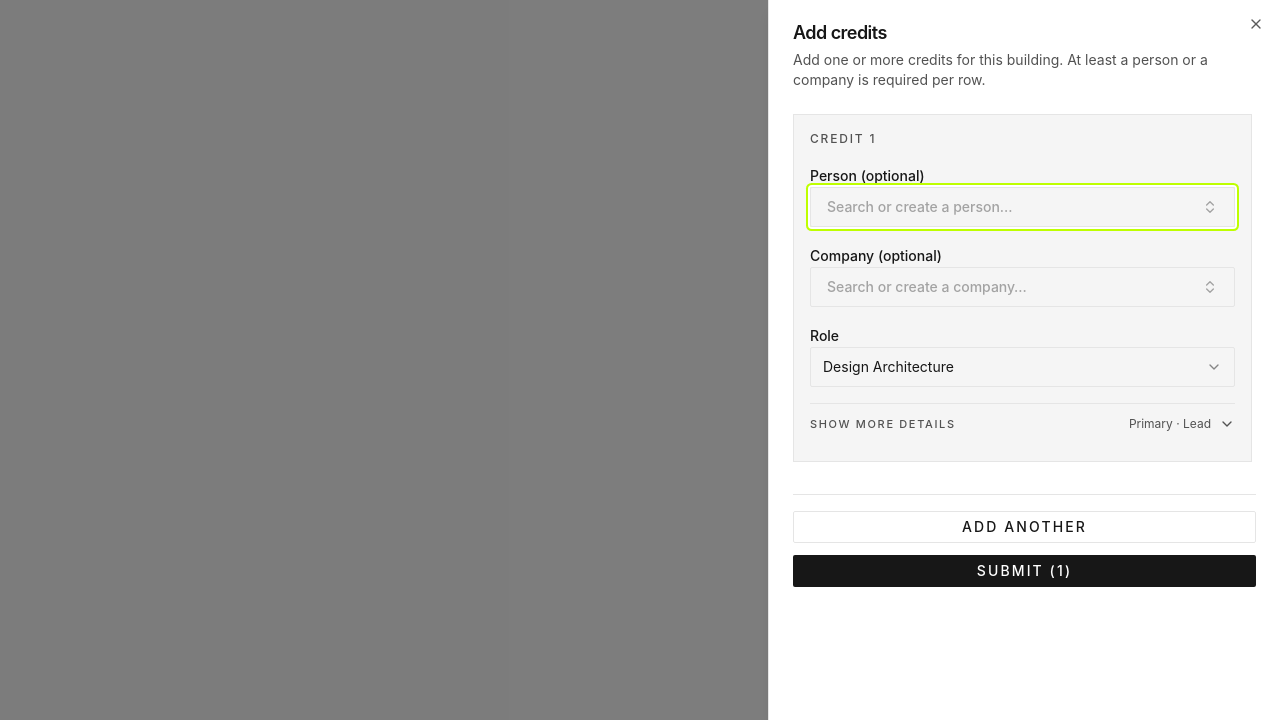
Test: AddCreditForm › shows validation when neither person nor company is selected
Click the button "Submit (1)" at (1024, 570), box top-left (793, 554), bottom-right (1256, 586)
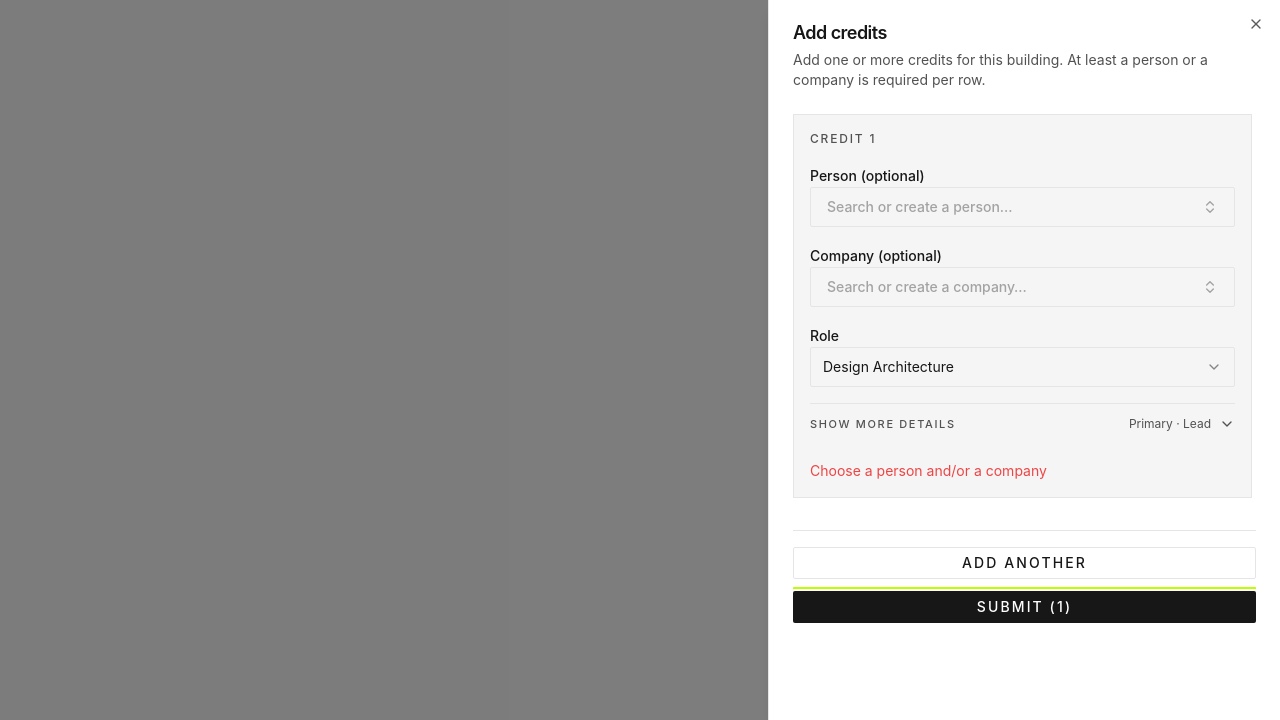
Check: the text "Choose a person and/or a company" is shown, box top-left (810, 462), bottom-right (1047, 478)
